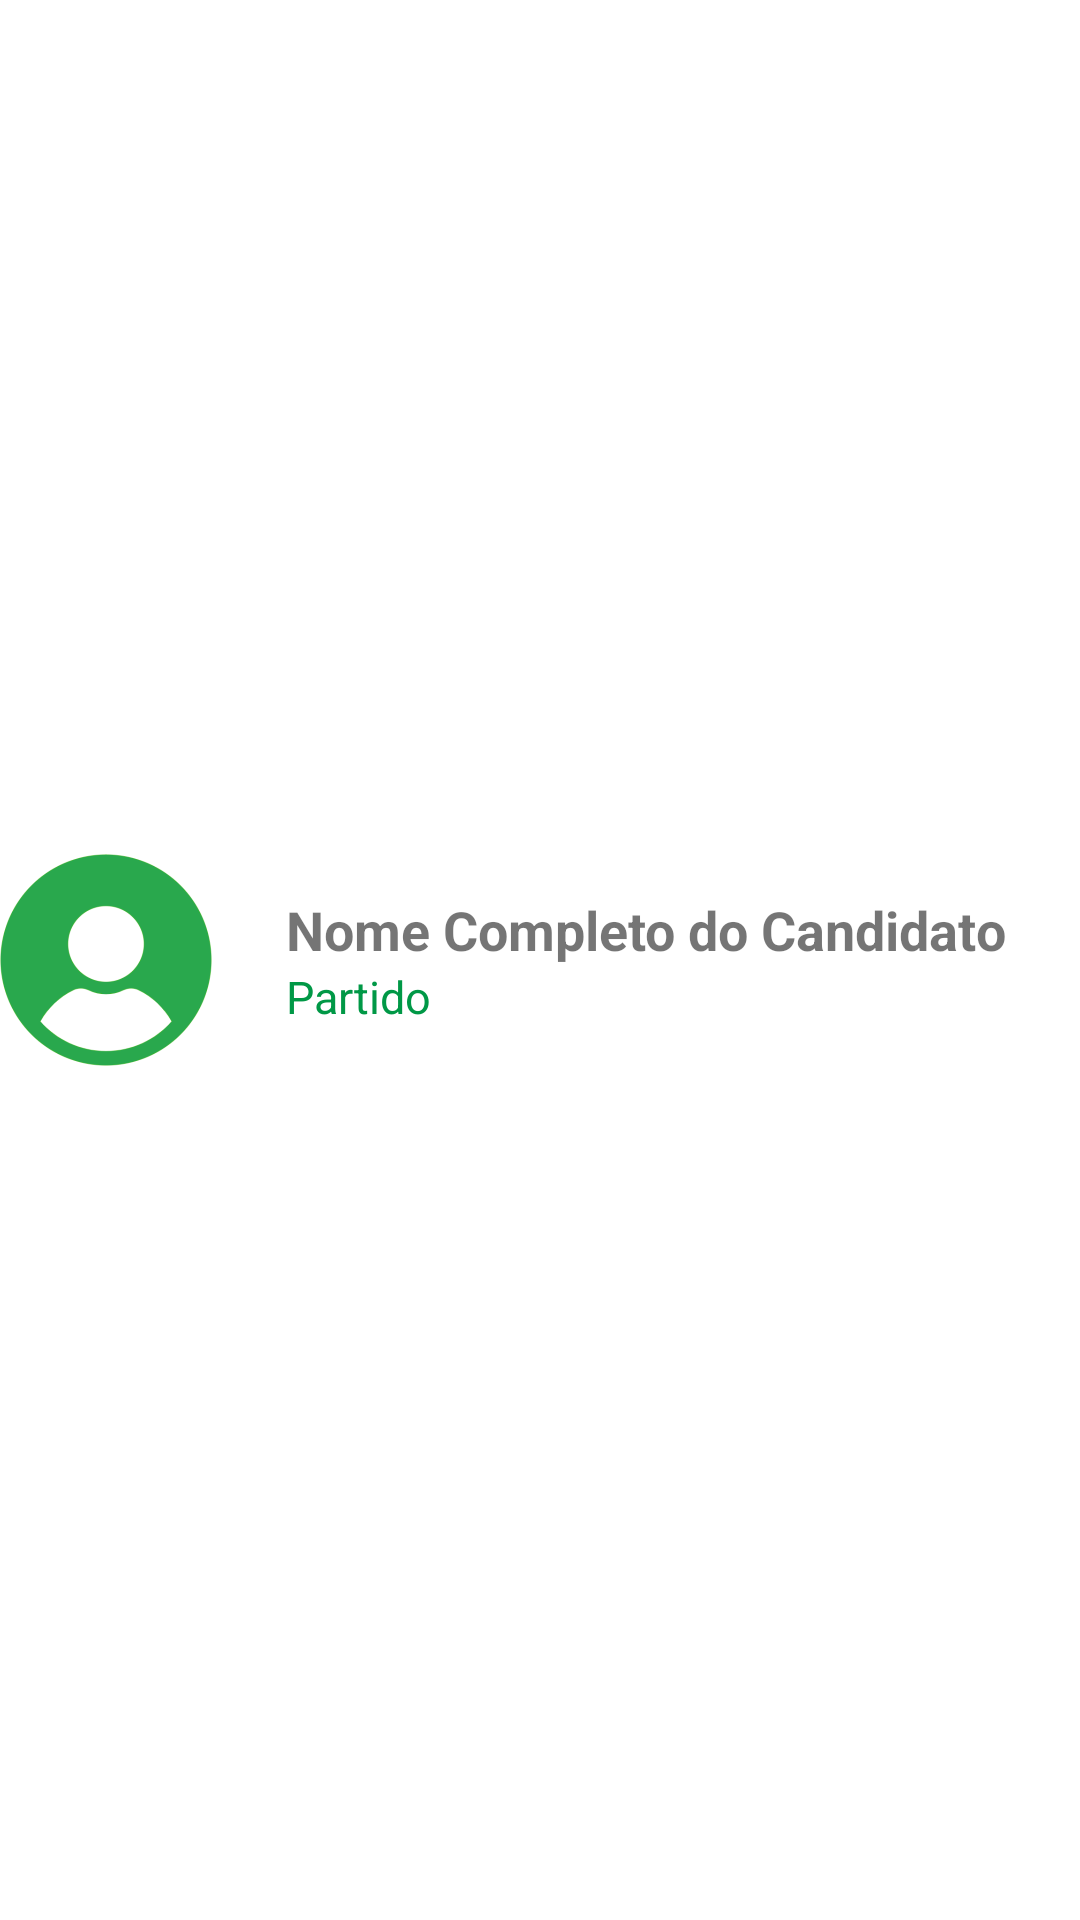

Where to tap for icons on this 1080 x 1920 app screen, as point (x, y):
Foto do candidato: point (106, 960)
